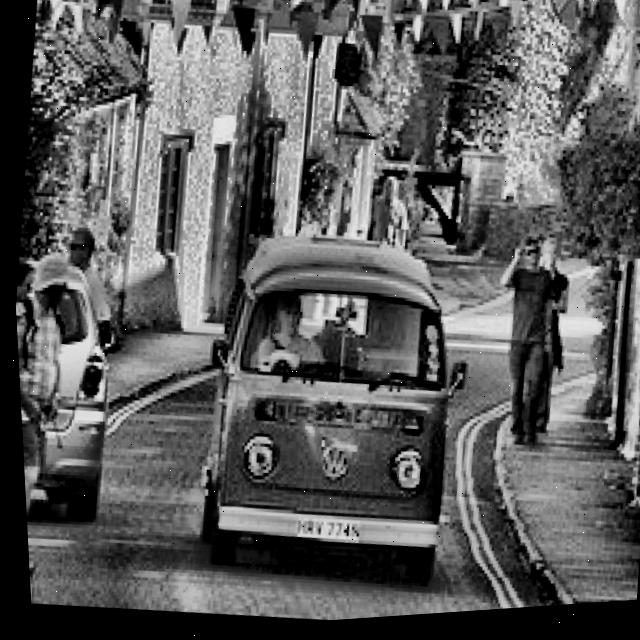light_vehicle: (10, 246, 129, 527)
